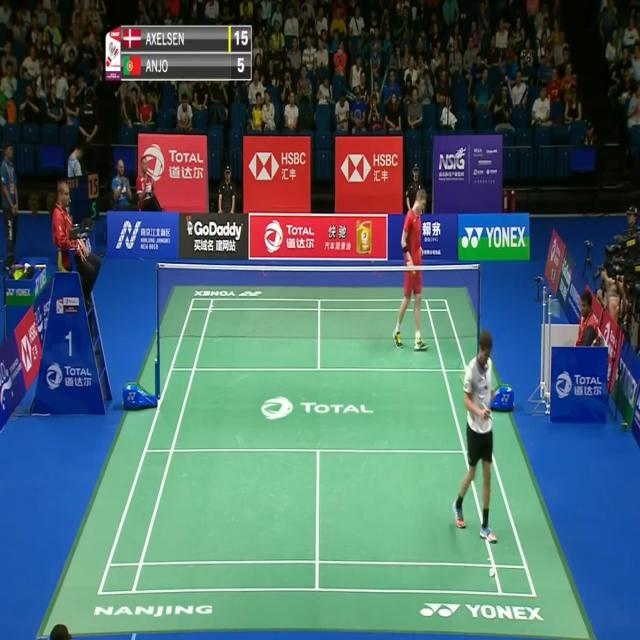Player1: (450, 324, 502, 548)
Player2: (392, 186, 433, 358)
